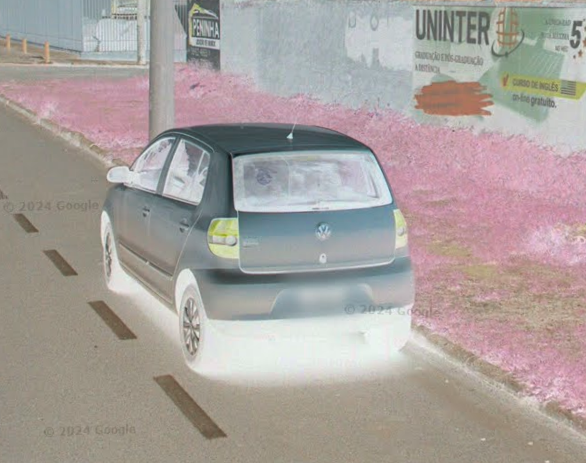car: (94, 103, 424, 381)
